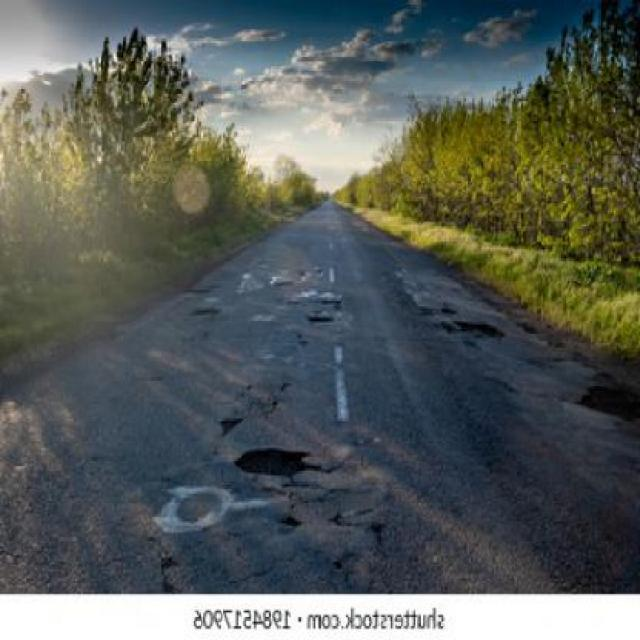Pothole: (230, 443, 324, 482), (437, 318, 513, 342), (218, 414, 245, 435), (307, 312, 341, 327)
